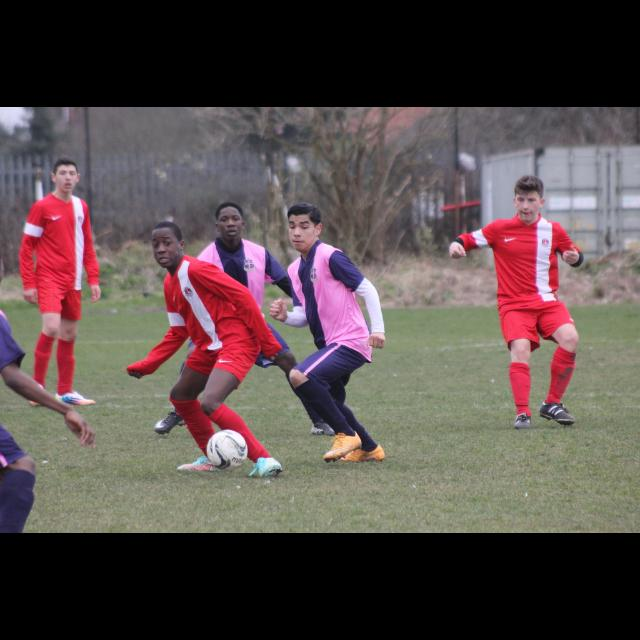Football: (206, 426, 248, 470)
